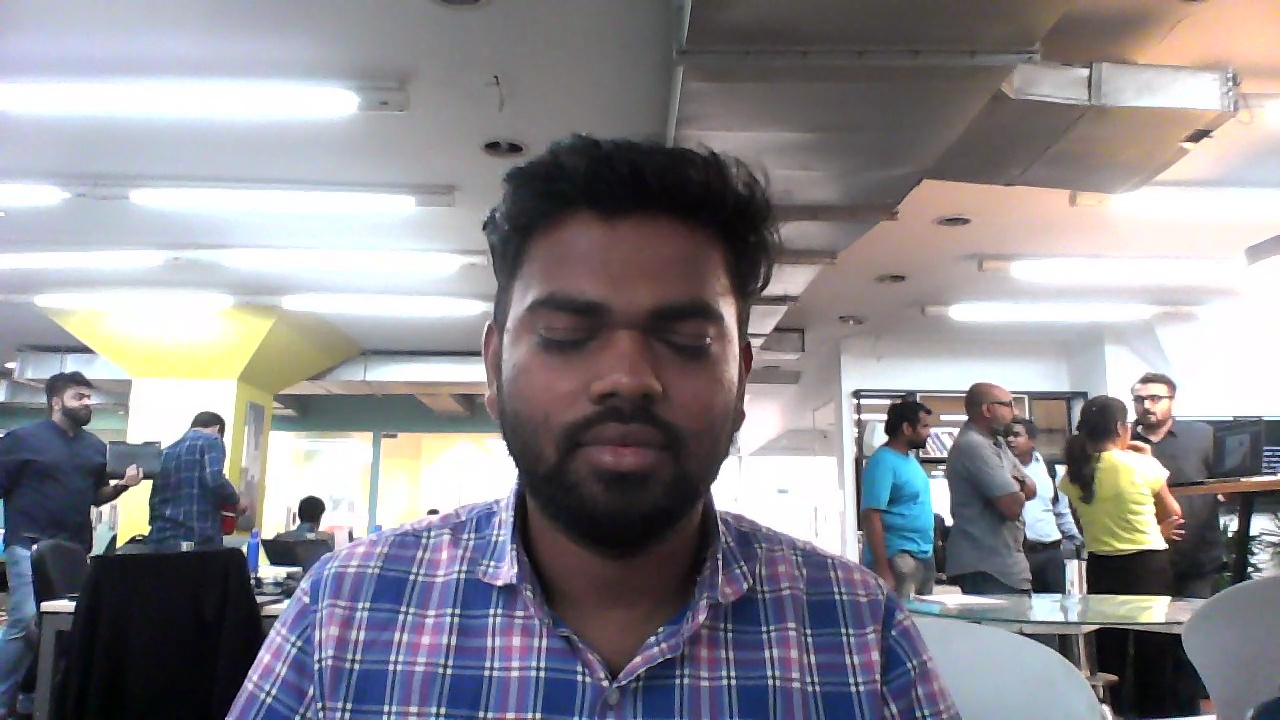closed: (482, 143, 758, 541)
